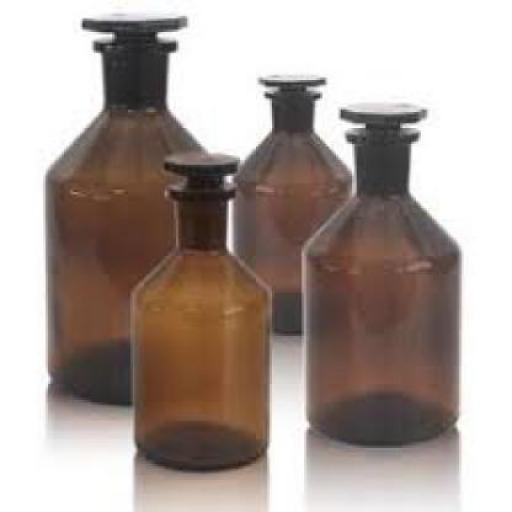glass: (43, 11, 208, 403), (300, 101, 457, 441), (126, 148, 270, 468), (233, 70, 354, 332)
